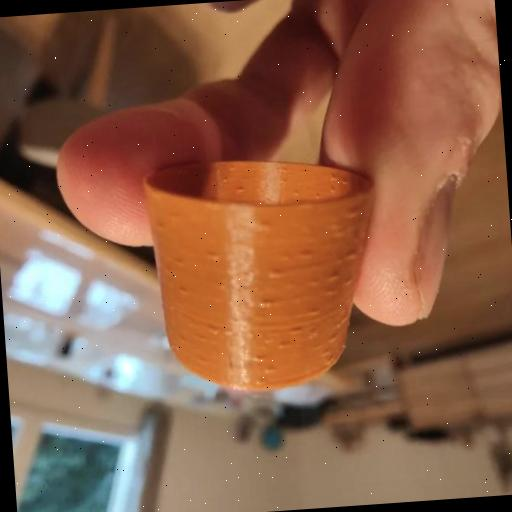blobs: (151, 216, 171, 232), (266, 267, 286, 282), (260, 364, 278, 378), (255, 298, 275, 310), (252, 354, 269, 368), (342, 250, 358, 264), (276, 341, 293, 354), (298, 248, 316, 260), (208, 251, 222, 266), (172, 256, 187, 270), (303, 307, 323, 317), (176, 283, 188, 298), (204, 325, 222, 335), (309, 279, 323, 291), (234, 184, 247, 196), (324, 272, 340, 281), (290, 188, 304, 198), (311, 191, 326, 200), (290, 324, 302, 335), (220, 176, 232, 186), (330, 174, 340, 184), (326, 188, 341, 194)
